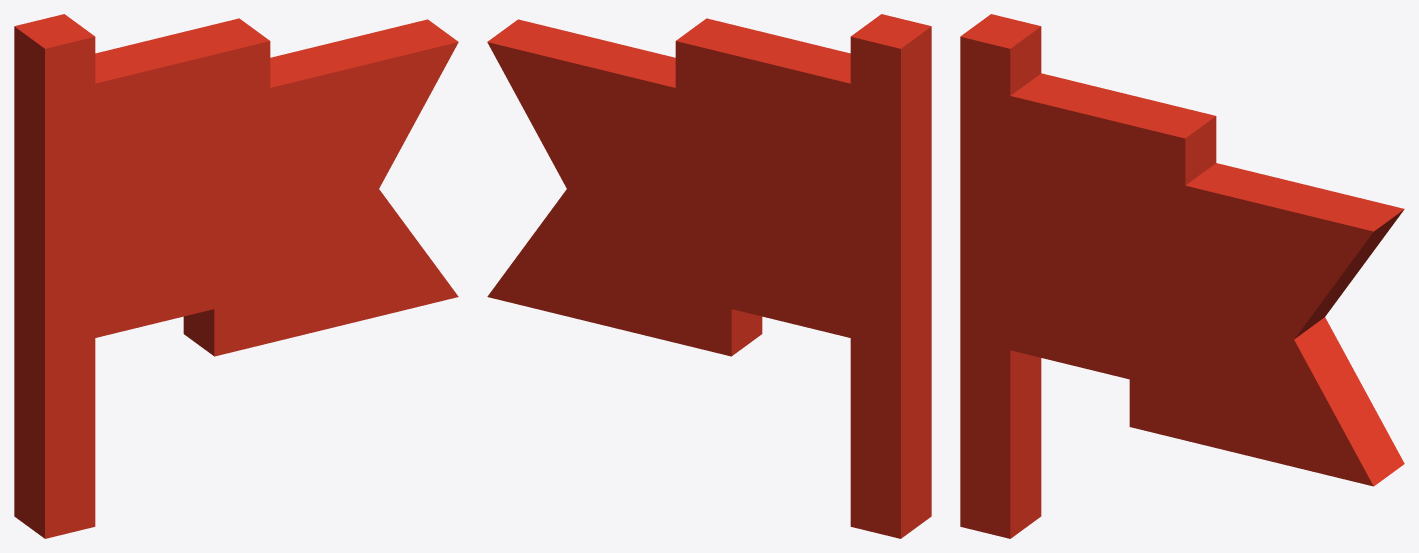
The model's file is Icon_Flag_04.fbx.
3 renders of one model, left to right at view 1: azimuth 30°, elevation 25°; view 2: azimuth 150°, elevation 25°; view 3: azimuth 330°, elevation 25°, orthographic.
Visible parts, largest first — view 1: Icon_Flag_04; view 2: Icon_Flag_04; view 3: Icon_Flag_04.
Part boxes in pixels (box(x1,y1,x2,y2)): Icon_Flag_04: box(14, 14, 458, 538); Icon_Flag_04: box(487, 14, 931, 538); Icon_Flag_04: box(960, 14, 1404, 538).
Size of the model in its own units: 63.64 by 72.05 by 8.25.
